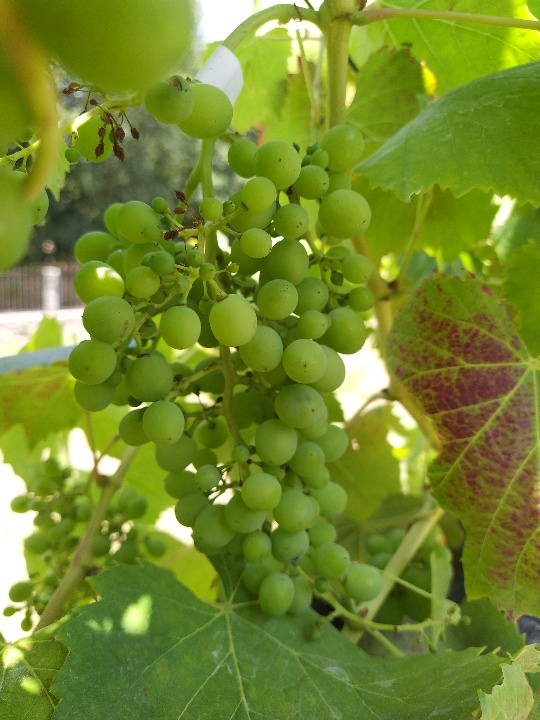grape: (65, 121, 383, 631)
